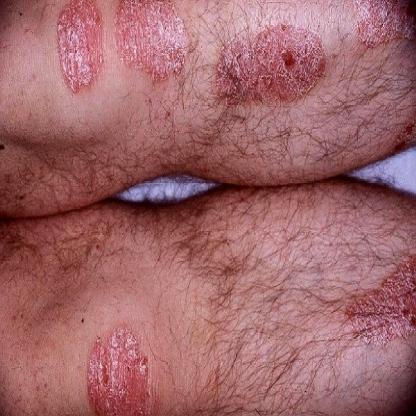Psoriasis: (220, 12, 325, 110), (341, 247, 416, 355), (80, 321, 162, 416), (112, 0, 197, 85), (42, 0, 108, 88), (354, 0, 415, 51)
